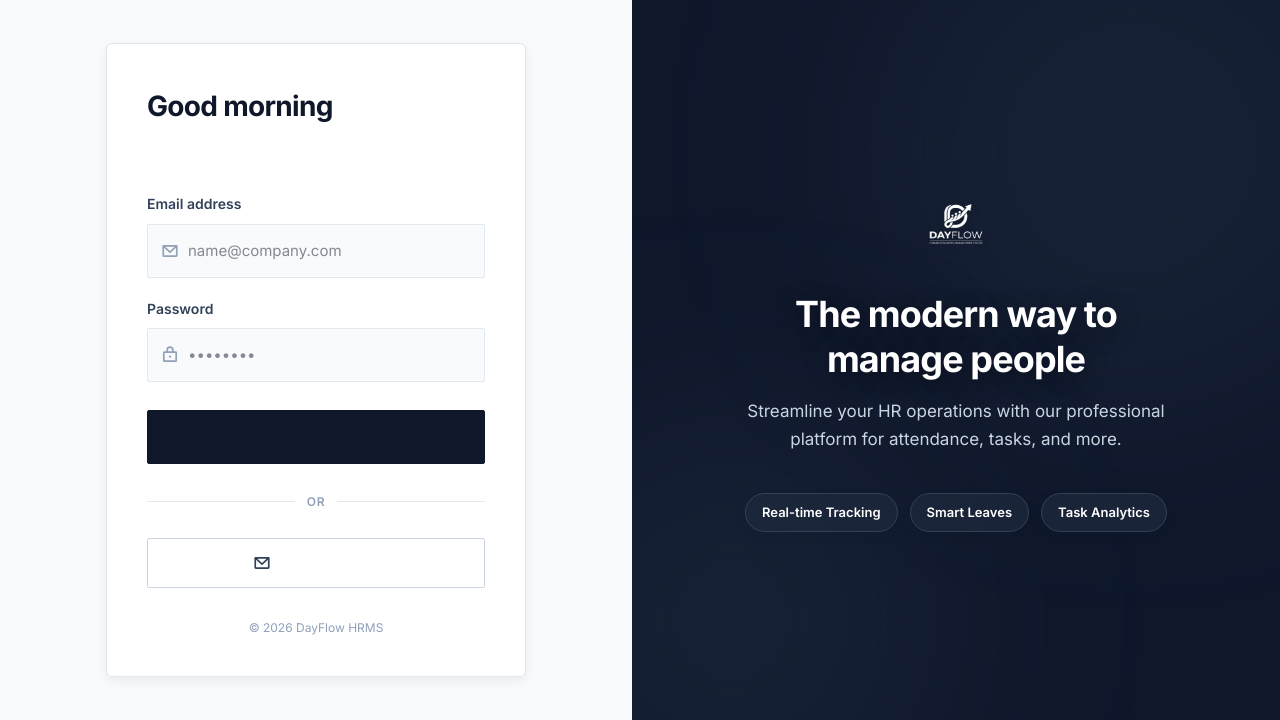
Test: Login Page › shows error message on failed login
Type "test@example.com" into the field with placeholder "name@company.com" at (316, 251), box [147,224,485,278]
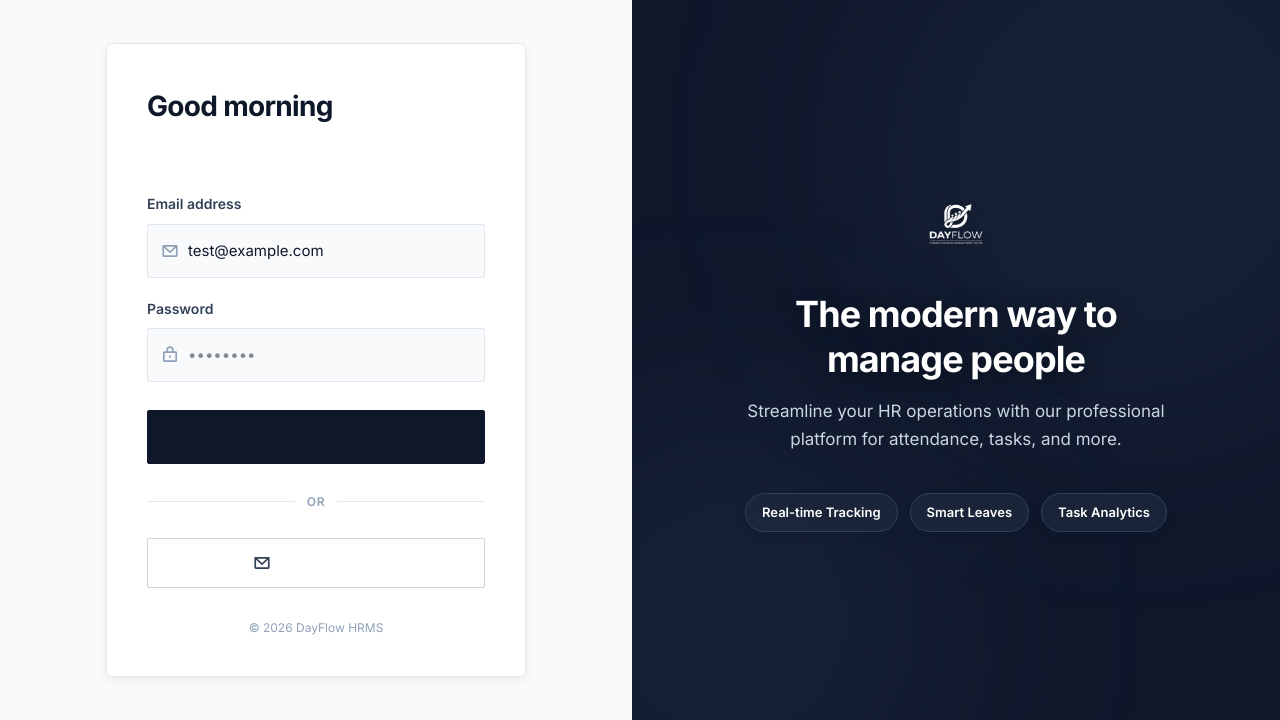
Type "wrong-password" into the password field with placeholder "••••••••" at (316, 355), box [147,328,485,382]
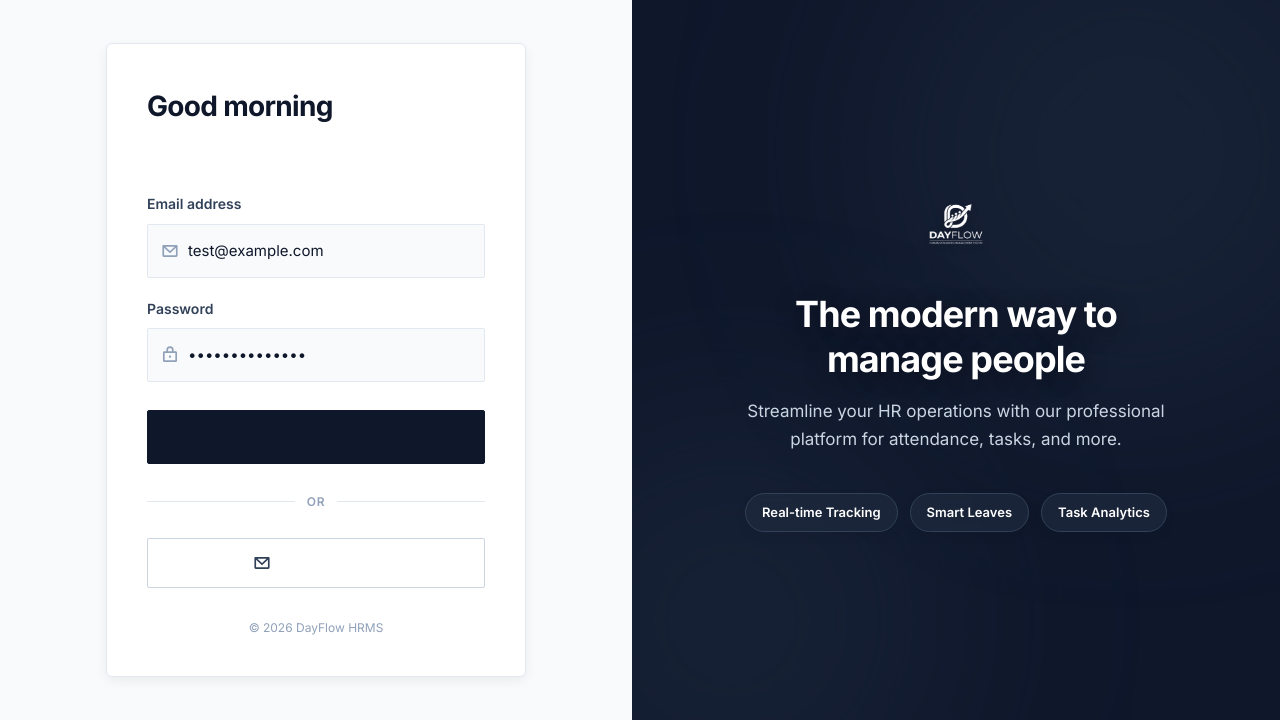
Click the button named "sign in" below "Password" at (316, 437), box [147,410,485,464]
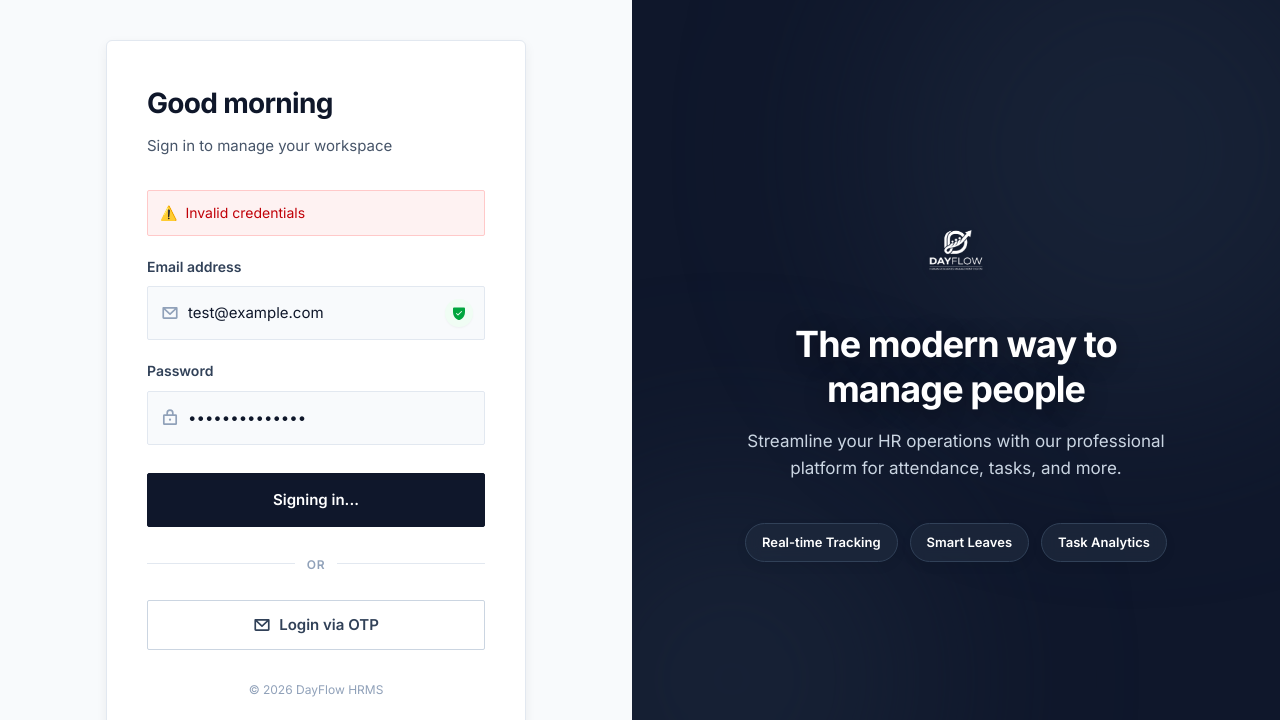
Expected: the text "⚠️ Invalid credentials" is shown, [147,190,485,236]
